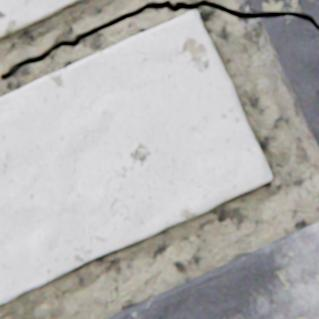brick: (0, 10, 272, 303), (106, 221, 318, 318), (0, 0, 81, 39)
broken_brick: (251, 0, 318, 144)
crack: (2, 0, 318, 79)
